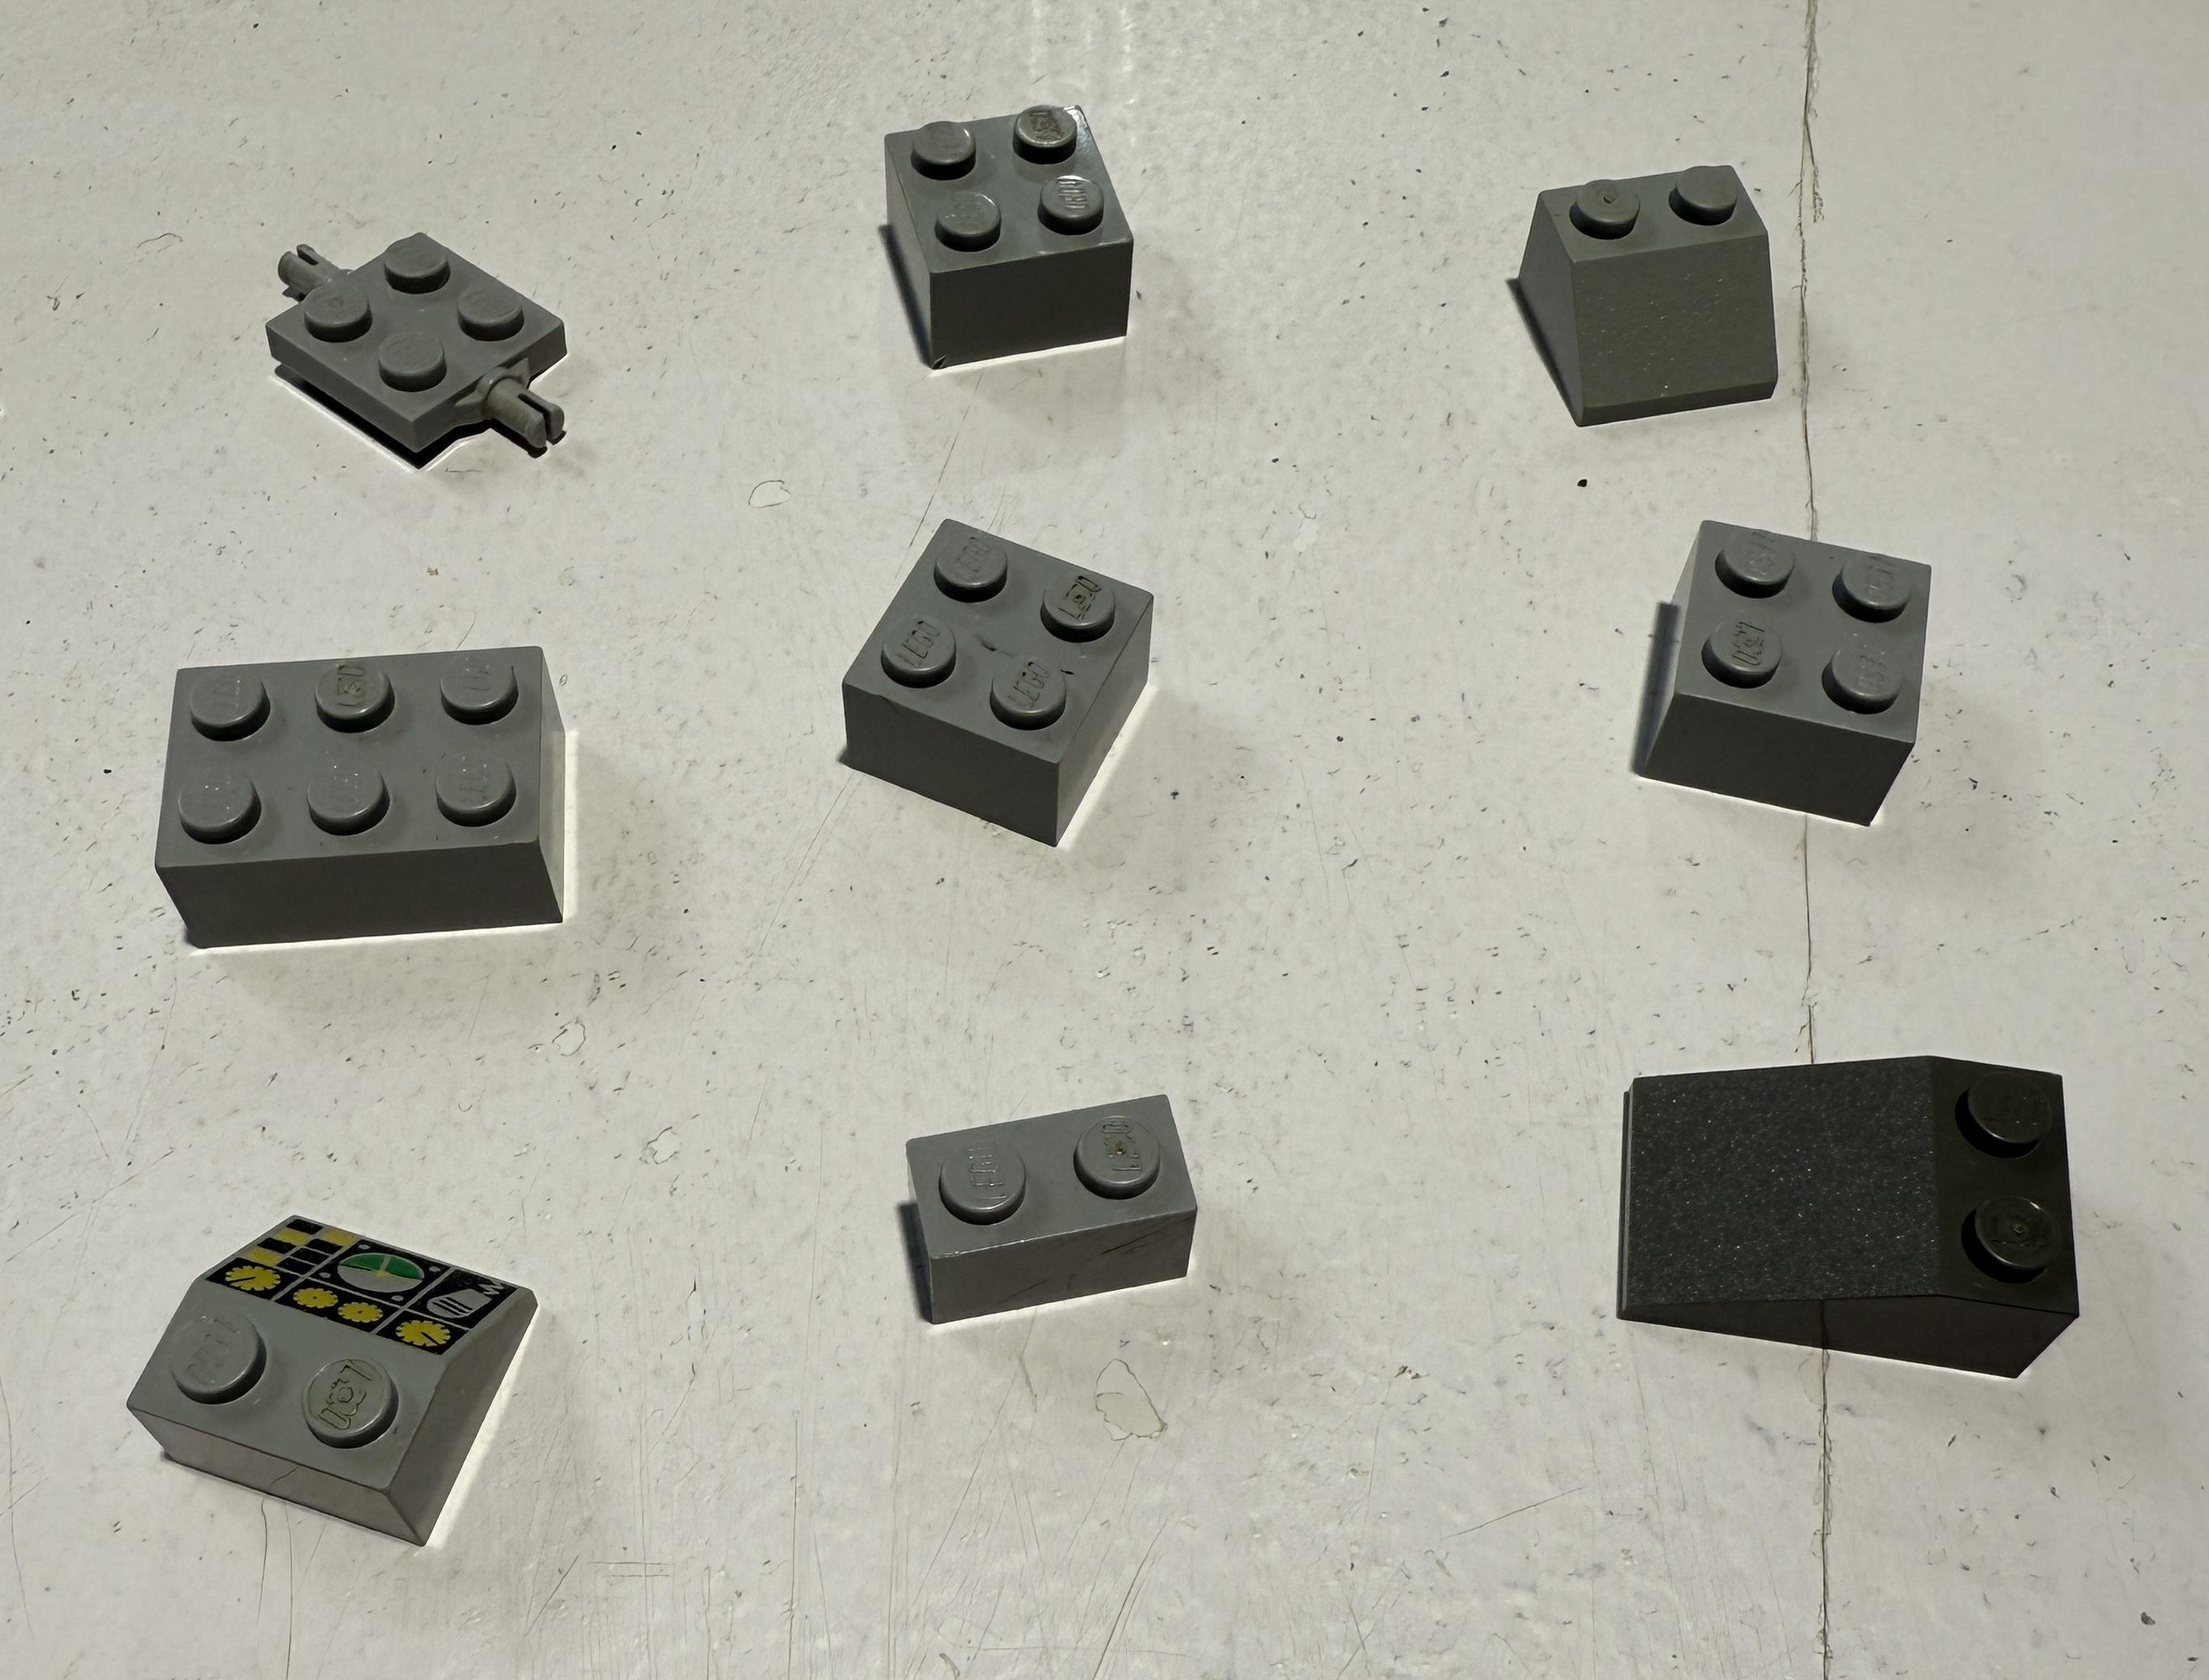Special_02: (118, 1189, 565, 1564), (1498, 145, 1805, 450)
brick_1x2: (847, 1066, 1240, 1339)
brick_2x2: (1597, 496, 1974, 852), (808, 492, 1168, 859), (857, 69, 1154, 402)
brick_2x3: (92, 602, 630, 981)
